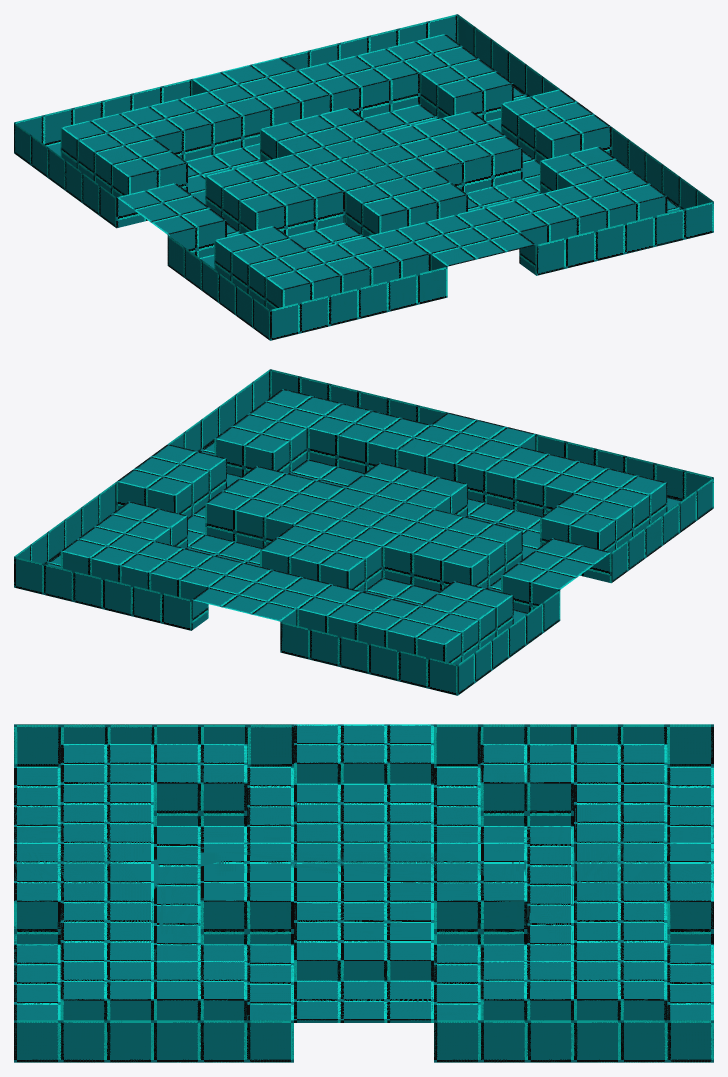
Rendered from Dungeon Floor Water [+].dae.
3 views of the same model, one above another, from view 1: azimuth 30°, elevation 25°; view 2: azimuth 150°, elevation 25°; view 3: azimuth 270°, elevation 25° (orthographic). The views are drawn at different scales.
Parts seen in each view (by area): view 1: group_0 (×2); view 2: group_0 (×2); view 3: group_0 (×2).
Boxes of the visible parts, box(x1,y1,x2,y2) form: group_0 (×2): box(14, 14, 713, 340); group_0 (×2): box(14, 369, 713, 695); group_0 (×2): box(14, 724, 713, 1062).
Bounding box in the file's own units: 591 × 591 × 39.37.
